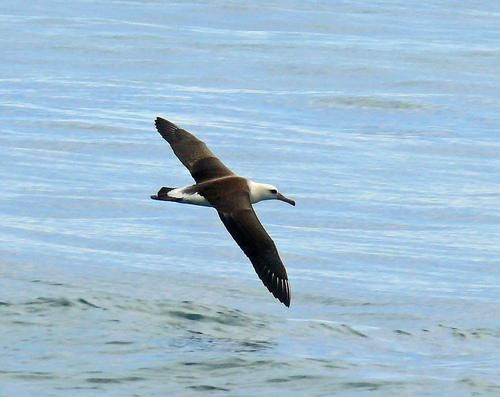bird: (147, 113, 299, 309)
